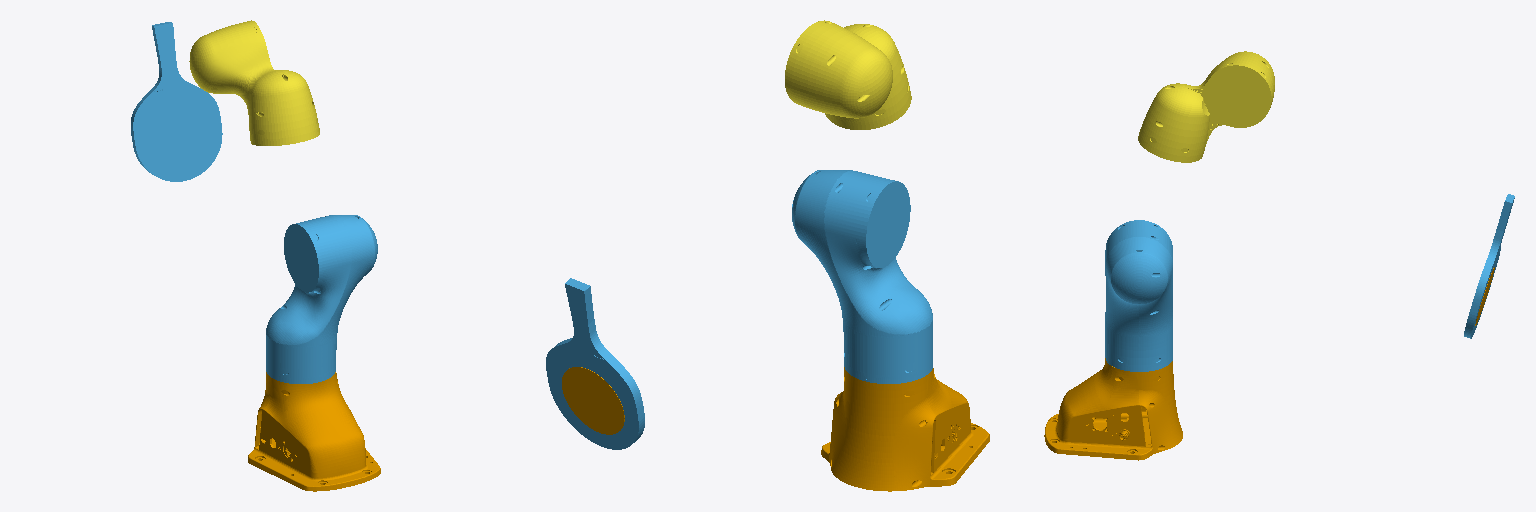
The robot description file, URDF, robot "panda_with_bat":
<?xml version="1.0" ?>
<robot name="panda_with_bat">

<material name="silver">
  <color rgba="0.700 0.700 0.700 1.000"/>
</material>

<link name="base_link">
  <inertial>
    <origin xyz="0.0 0.0 0.0" rpy="0 0 0"/>
    <mass value="0.0"/>
    <inertia ixx="0.0" iyy="0.0" izz="0.0" ixy="0.0" iyz="0.0" ixz="0.0"/>
  </inertial>
  <visual>
    <origin xyz="0 0 0" rpy="0 0 0"/>
    <geometry>
      <mesh filename="meshes/base_link.stl" scale="0.001 0.001 0.001"/>
    </geometry>
    <material name="silver"/>
    <material/>
  </visual>
  <collision>
    <origin xyz="0 0 0" rpy="0 0 0"/>
    <geometry>
      <mesh filename="meshes/base_link.stl" scale="0.001 0.001 0.001"/>
    </geometry>
  </collision>
</link>

<link name="franka_link11">
  <inertial>
    <origin xyz="0.015919970943145345 1.6891914177460943e-05 0.09629414483425225" rpy="0 0 0"/>
    <mass value="6.3428439995297925"/>
    <inertia ixx="0.049100885935681404" iyy="0.0523856265058229" izz="0.014510081328525493" ixy="-1.8118905784902939e-06" iyz="-1.2245628480900272e-05" ixz="-0.008761304137697046"/>
  </inertial>
  <visual>
    <origin xyz="0.205858 -0.115737 -0.489015" rpy="0 0 0"/>
    <geometry>
      <mesh filename="meshes/franka_link11.stl" scale="0.001 0.001 0.001"/>
    </geometry>
    <material name="silver"/>
    <material/>
  </visual>
  <collision>
    <origin xyz="0.205858 -0.115737 -0.489015" rpy="0 0 0"/>
    <geometry>
      <mesh filename="meshes/franka_link11.stl" scale="0.001 0.001 0.001"/>
    </geometry>
  </collision>
</link>

<link name="franka_link21">
  <inertial>
    <origin xyz="-0.03170674092862322 0.017918814413682704 0.06631353310618704" rpy="0 0 0"/>
    <mass value="18.093105171101435"/>
    <inertia ixx="0.1067043390002862" iyy="0.11527332715699679" izz="0.046421214515349085" ixy="-0.008156187945142945" iyz="-0.02011518479972141" ixz="-0.03011566655974729"/>
  </inertial>
  <visual>
    <origin xyz="0.205358 -0.115737 -0.681015" rpy="0 0 0"/>
    <geometry>
      <mesh filename="meshes/franka_link21.stl" scale="0.001 0.001 0.001"/>
    </geometry>
    <material name="silver"/>
    <material/>
  </visual>
  <collision>
    <origin xyz="0.205358 -0.115737 -0.681015" rpy="0 0 0"/>
    <geometry>
      <mesh filename="meshes/franka_link21.stl" scale="0.001 0.001 0.001"/>
    </geometry>
  </collision>
</link>

<link name="franka_link31">
  <inertial>
    <origin xyz="-0.006251688472462685 0.05415434031893715 0.055962521756316996" rpy="0 0 0"/>
    <mass value="5.091749656018345"/>
    <inertia ixx="0.027931566301489852" iyy="0.014324972489096588" izz="0.022896724524414103" ixy="0.0018985248869833327" iyz="-0.008999136283237785" ixz="0.0011251465327162258"/>
  </inertial>
  <visual>
    <origin xyz="0.204858 -0.166419 -0.868277" rpy="0 0 0"/>
    <geometry>
      <mesh filename="meshes/franka_link31.stl" scale="0.001 0.001 0.001"/>
    </geometry>
    <material name="silver"/>
    <material/>
  </visual>
  <collision>
    <origin xyz="0.204858 -0.166419 -0.868277" rpy="0 0 0"/>
    <geometry>
      <mesh filename="meshes/franka_link31.stl" scale="0.001 0.001 0.001"/>
    </geometry>
  </collision>
</link>

<link name="franka_link41">
  <inertial>
    <origin xyz="0.022416295539124442 0.053828750026371774 0.02831937415265595" rpy="0 0 0"/>
    <mass value="5.826518118660749"/>
    <inertia ixx="0.03293216879178651" iyy="0.013303916725328158" izz="0.029144926010459815" ixy="0.0018531124960448064" iyz="-0.008925637551683518" ixz="0.0008266307965244524"/>
  </inertial>
  <visual>
    <origin xyz="0.190744 -0.276493 -0.963839" rpy="0 0 0"/>
    <geometry>
      <mesh filename="meshes/franka_link41.stl" scale="0.001 0.001 0.001"/>
    </geometry>
    <material name="silver"/>
    <material/>
  </visual>
  <collision>
    <origin xyz="0.190744 -0.276493 -0.963839" rpy="0 0 0"/>
    <geometry>
      <mesh filename="meshes/franka_link41.stl" scale="0.001 0.001 0.001"/>
    </geometry>
  </collision>
</link>

<link name="franka_link51">
  <inertial>
    <origin xyz="-0.034290569507804514 0.16391278139547755 -0.04460213669811597" rpy="0 0 0"/>
    <mass value="2.33892655137443"/>
    <inertia ixx="0.02364118982761232" iyy="0.006151004442137342" izz="0.023577444571088457" ixy="0.002687874149010061" iyz="0.005125296561300452" ixz="-0.0007201380608680696"/>
  </inertial>
  <visual>
    <origin xyz="0.169284 -0.415935 -1.011568" rpy="0 0 0"/>
    <geometry>
      <mesh filename="meshes/franka_link51.stl" scale="0.001 0.001 0.001"/>
    </geometry>
    <material name="silver"/>
    <material/>
  </visual>
  <collision>
    <origin xyz="0.169284 -0.415935 -1.011568" rpy="0 0 0"/>
    <geometry>
      <mesh filename="meshes/franka_link51.stl" scale="0.001 0.001 0.001"/>
    </geometry>
  </collision>
</link>

<link name="franka_link61">
  <inertial>
    <origin xyz="0.03418688988700623 0.05926864819781541 -0.006268383799952537" rpy="0 0 0"/>
    <mass value="1.8155432010748516"/>
    <inertia ixx="0.007118089011445949" iyy="0.004265977942787158" izz="0.0051537386428838206" ixy="0.0004301101645506622" iyz="-0.00011646942799026228" ixz="-2.364473017452129e-05"/>
  </inertial>
  <visual>
    <origin xyz="0.138983 -0.664691 -0.944242" rpy="0 0 0"/>
    <geometry>
      <mesh filename="meshes/franka_link61.stl" scale="0.001 0.001 0.001"/>
    </geometry>
    <material name="silver"/>
    <material/>
  </visual>
  <collision>
    <origin xyz="0.138983 -0.664691 -0.944242" rpy="0 0 0"/>
    <geometry>
      <mesh filename="meshes/franka_link61.stl" scale="0.001 0.001 0.001"/>
    </geometry>
  </collision>
</link>

<link name="franka_link71">
  <inertial>
    <origin xyz="0.108837 -0.732388 -0.872878" rpy="0 0 0"/>
    <mass value="0.0"/>
    <inertia ixx="0.0" iyy="0.0" izz="0.0" ixy="0.0" iyz="0.0" ixz="0.0"/>
  </inertial>
  <visual>
    <origin xyz="0.108837 -0.732388 -0.872878" rpy="0 0 0"/>
    <geometry>
      <mesh filename="meshes/franka_link71.stl" scale="0.001 0.001 0.001"/>
    </geometry>
    <material name="silver"/>
    <material/>
  </visual>
  <collision>
    <origin xyz="0.108837 -0.732388 -0.872878" rpy="0 0 0"/>
    <geometry>
      <mesh filename="meshes/franka_link71.stl" scale="0.001 0.001 0.001"/>
    </geometry>
  </collision>
</link>

<link name="end_effector1">
  <inertial>
    <origin xyz="4.428706456990894e-05 0.0002378878371392945 -6.4008578124497e-05" rpy="0 0 0"/>
    <mass value="0.006051492848977337"/>
    <inertia ixx="3.900843302443759e-06" iyy="7.195789381646191e-06" izz="4.032351583887605e-06" ixy="6.360928790776778e-07" iyz="-9.238587965411556e-07" ixz="-1.7215860466363421e-07"/>
  </inertial>
  <visual>
    <origin xyz="0.107731 -0.676972 -0.644582" rpy="0 0 0"/>
    <geometry>
      <mesh filename="meshes/end_effector1.stl" scale="0.001 0.001 0.001"/>
    </geometry>
    <material name="silver"/>
    <material/>
  </visual>
  <collision>
    <origin xyz="0.107731 -0.676972 -0.644582" rpy="0 0 0"/>
    <geometry>
      <mesh filename="meshes/end_effector1.stl" scale="0.001 0.001 0.001"/>
    </geometry>
  </collision>
</link>

<link name="paddle_2_v11">
  <inertial>
    <origin xyz="1.536717935846088e-05 -0.04098183364350794 -0.15141084630928492" rpy="0 0 0"/>
    <mass value="0.41109102084948795"/>
    <inertia ixx="0.001359406044357525" iyy="0.001729813346568243" izz="0.0005917335521479494" ixy="8.25063059278347e-05" iyz="-0.00033229452756661226" ixz="-2.269500528657986e-05"/>
  </inertial>
  <visual>
    <origin xyz="0.108837 -0.718071 -0.819981" rpy="0 0 0"/>
    <geometry>
      <mesh filename="meshes/paddle_2_v11.stl" scale="0.001 0.001 0.001"/>
    </geometry>
    <material name="silver"/>
    <material/>
  </visual>
  <collision>
    <origin xyz="0.108837 -0.718071 -0.819981" rpy="0 0 0"/>
    <geometry>
      <mesh filename="meshes/paddle_2_v11.stl" scale="0.001 0.001 0.001"/>
    </geometry>
  </collision>
</link>

<joint name="panda_joint0" type="continuous">
  <origin xyz="-0.205858 0.115737 0.489015" rpy="0 0 0"/>
  <parent link="base_link"/>
  <child link="franka_link11"/>
  <axis xyz="0.0 0.0 1.0"/>
</joint>
<transmission name="panda_joint0_tran">
  <type>transmission_interface/SimpleTransmission</type>
  <joint name="panda_joint0">
    <hardwareInterface>PositionJointInterface</hardwareInterface>
  </joint>
  <actuator name="panda_joint0_actr">
    <hardwareInterface>PositionJointInterface</hardwareInterface>
    <mechanicalReduction>1</mechanicalReduction>
  </actuator>
</transmission>

<joint name="panda_joint1" type="continuous">
  <origin xyz="0.0005 0.0 0.192" rpy="0 0 0"/>
  <parent link="franka_link11"/>
  <child link="franka_link21"/>
  <axis xyz="-1.0 0.0 0.0"/>
</joint>
<transmission name="panda_joint1_tran">
  <type>transmission_interface/SimpleTransmission</type>
  <joint name="panda_joint1">
    <hardwareInterface>PositionJointInterface</hardwareInterface>
  </joint>
  <actuator name="panda_joint1_actr">
    <hardwareInterface>PositionJointInterface</hardwareInterface>
    <mechanicalReduction>1</mechanicalReduction>
  </actuator>
</transmission>

<joint name="panda_joint2" type="continuous">
  <origin xyz="0.0005 0.050682 0.187262" rpy="0 0 0"/>
  <parent link="franka_link21"/>
  <child link="franka_link31"/>
  <axis xyz="0.0 0.261251 0.965271"/>
</joint>
<transmission name="panda_joint2_tran">
  <type>transmission_interface/SimpleTransmission</type>
  <joint name="panda_joint2">
    <hardwareInterface>PositionJointInterface</hardwareInterface>
  </joint>
  <actuator name="panda_joint2_actr">
    <hardwareInterface>PositionJointInterface</hardwareInterface>
    <mechanicalReduction>1</mechanicalReduction>
  </actuator>
</transmission>

<joint name="panda_joint3" type="continuous">
  <origin xyz="0.014114 0.110074 0.095562" rpy="0 0 0"/>
  <parent link="franka_link31"/>
  <child link="franka_link41"/>
  <axis xyz="0.984205 -0.170886 0.04625"/>
</joint>
<transmission name="panda_joint3_tran">
  <type>transmission_interface/SimpleTransmission</type>
  <joint name="panda_joint3">
    <hardwareInterface>PositionJointInterface</hardwareInterface>
  </joint>
  <actuator name="panda_joint3_actr">
    <hardwareInterface>PositionJointInterface</hardwareInterface>
    <mechanicalReduction>1</mechanicalReduction>
  </actuator>
</transmission>

<joint name="panda_joint4" type="continuous">
  <origin xyz="0.02146 0.139442 0.047729" rpy="0 0 0"/>
  <parent link="franka_link41"/>
  <child link="franka_link51"/>
  <axis xyz="0.177034 0.950024 -0.257124"/>
</joint>
<transmission name="panda_joint4_tran">
  <type>transmission_interface/SimpleTransmission</type>
  <joint name="panda_joint4">
    <hardwareInterface>PositionJointInterface</hardwareInterface>
  </joint>
  <actuator name="panda_joint4_actr">
    <hardwareInterface>PositionJointInterface</hardwareInterface>
    <mechanicalReduction>1</mechanicalReduction>
  </actuator>
</transmission>

<joint name="panda_joint5" type="continuous">
  <origin xyz="0.030301 0.248756 -0.067326" rpy="0 0 0"/>
  <parent link="franka_link51"/>
  <child link="franka_link61"/>
  <axis xyz="0.984205 -0.170886 0.04625"/>
</joint>
<transmission name="panda_joint5_tran">
  <type>transmission_interface/SimpleTransmission</type>
  <joint name="panda_joint5">
    <hardwareInterface>PositionJointInterface</hardwareInterface>
  </joint>
  <actuator name="panda_joint5_actr">
    <hardwareInterface>PositionJointInterface</hardwareInterface>
    <mechanicalReduction>1</mechanicalReduction>
  </actuator>
</transmission>

<joint name="panda_joint6" type="continuous">
  <origin xyz="0.030146 0.067697 -0.071364" rpy="0 0 0"/>
  <parent link="franka_link61"/>
  <child link="franka_link71"/>
  <axis xyz="-0.0 -0.261251 -0.965271"/>
</joint>
<transmission name="panda_joint6_tran">
  <type>transmission_interface/SimpleTransmission</type>
  <joint name="panda_joint6">
    <hardwareInterface>PositionJointInterface</hardwareInterface>
  </joint>
  <actuator name="panda_joint6_actr">
    <hardwareInterface>PositionJointInterface</hardwareInterface>
    <mechanicalReduction>1</mechanicalReduction>
  </actuator>
</transmission>

<joint name="Rigid_25" type="fixed">
  <origin xyz="0.001106 -0.041099 -0.175399" rpy="0 0 0"/>
  <parent link="paddle_2_v11"/>
  <child link="end_effector1"/>
</joint>

<joint name="Rigid_26" type="fixed">
  <origin xyz="0.0 -0.014317 -0.052897" rpy="0 0 0"/>
  <parent link="franka_link71"/>
  <child link="paddle_2_v11"/>
</joint>

</robot>

--- Render facts (derived) ---
3 views of the same robot in one strip: view 1: azimuth 30°, elevation 25°; view 2: azimuth 150°, elevation 25°; view 3: azimuth 270°, elevation 25° (orthographic).
Robot: panda_with_bat — 10 links, 9 joints (7 continuous, 2 fixed); root link base_link; default pose: every joint at zero.
Links seen in each view (by area): view 1: franka_link11, base_link, franka_link31, paddle_2_v11; view 2: franka_link11, base_link, franka_link31, paddle_2_v11, end_effector1; view 3: base_link, franka_link11, franka_link31, paddle_2_v11.
Boxes of the visible links, x1,y1,x2,y2 form: franka_link11: (266, 215, 377, 383); base_link: (248, 372, 380, 491); franka_link31: (189, 20, 319, 145); paddle_2_v11: (131, 22, 222, 181); franka_link11: (792, 170, 932, 383); base_link: (821, 367, 989, 491); franka_link31: (785, 20, 911, 129); paddle_2_v11: (546, 278, 644, 449); end_effector1: (562, 367, 624, 434); base_link: (1044, 358, 1182, 460); franka_link11: (1105, 220, 1172, 371); franka_link31: (1138, 51, 1274, 162); paddle_2_v11: (1464, 194, 1514, 338).
Size in the robot's own frame: 0.2642 by 0.765 by 0.6698 metres.
Meshes: 10 distinct files referenced, 5 mesh visuals loaded (5 binary STL); not drawn: 5 (reference not matched to a file when rendering).